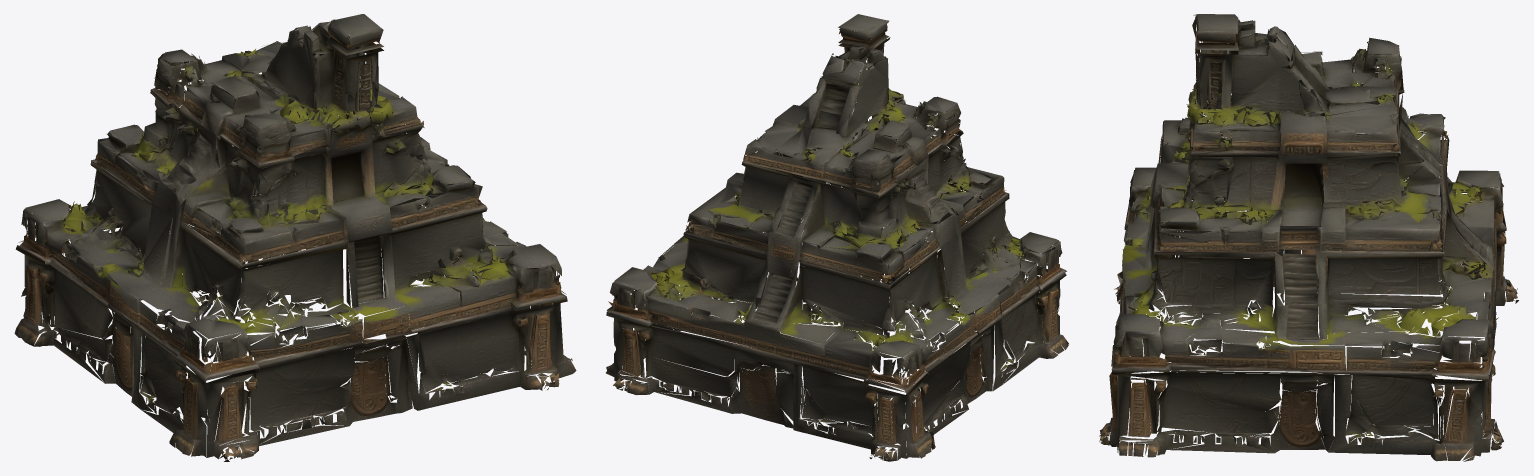
Rendered from ch7_terraced_ruins_LOD1.glb.
3 views of the same model, side by side, from view 1: azimuth 30°, elevation 25°; view 2: azimuth 150°, elevation 25°; view 3: azimuth 270°, elevation 25° (orthographic). The views are drawn at different scales.
Visible parts, largest first — view 1: tripo_node_85571fa6-29fd-4f36-8f6d-fa6e21ac3b30; view 2: tripo_node_85571fa6-29fd-4f36-8f6d-fa6e21ac3b30; view 3: tripo_node_85571fa6-29fd-4f36-8f6d-fa6e21ac3b30.
Boxes of the visible parts, x1=… form: tripo_node_85571fa6-29fd-4f36-8f6d-fa6e21ac3b30: x1=14, y1=14, x2=576, y2=461; tripo_node_85571fa6-29fd-4f36-8f6d-fa6e21ac3b30: x1=606, y1=14, x2=1068, y2=461; tripo_node_85571fa6-29fd-4f36-8f6d-fa6e21ac3b30: x1=1099, y1=14, x2=1518, y2=461.
Size of the model in its own units: 1.02 by 0.9164 by 0.9707.
1 material, 1 textured.
